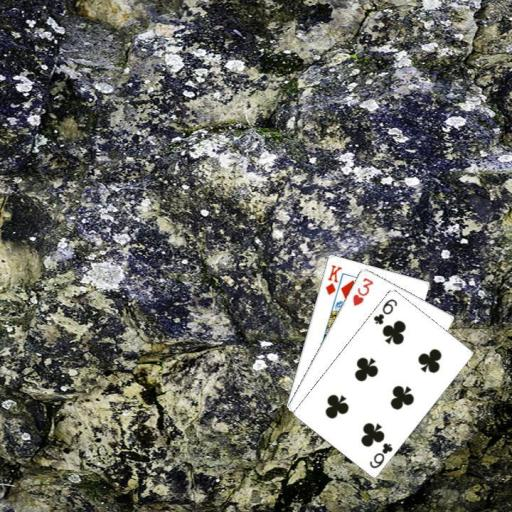3H: (349, 274, 375, 307)
6C: (370, 295, 399, 326), (366, 440, 394, 470)
KD: (322, 262, 344, 297)
